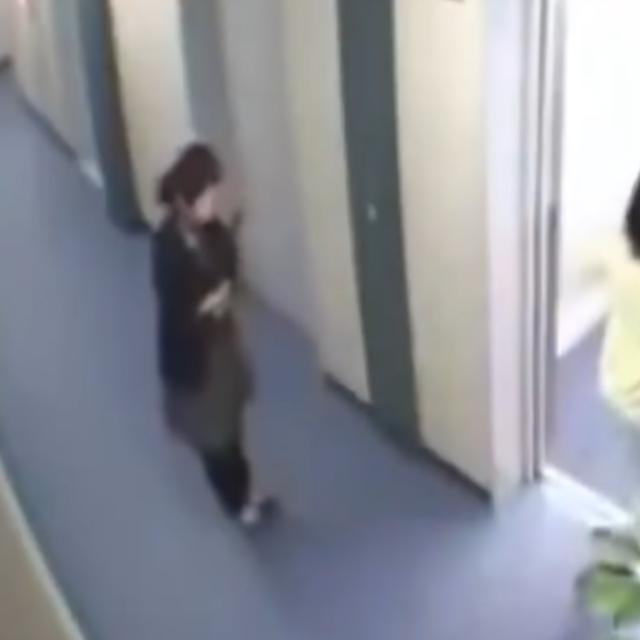person: (149, 144, 283, 531)
